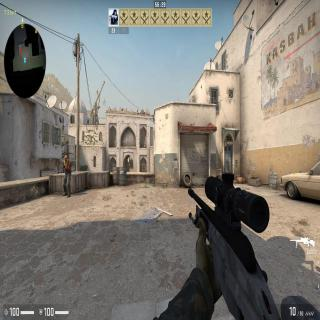T-Body: (62, 154, 72, 198)
T-Head: (64, 154, 68, 162)
